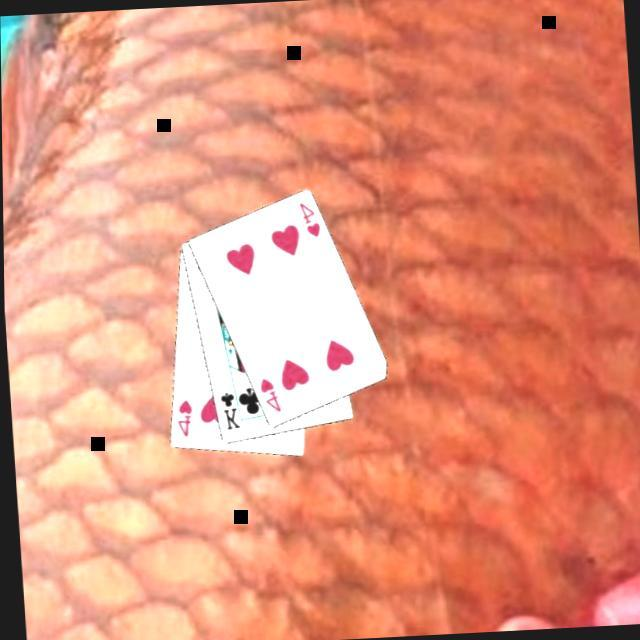4H: (253, 373, 281, 416), (293, 198, 321, 241), (170, 396, 194, 439)
KC: (213, 383, 244, 433)
